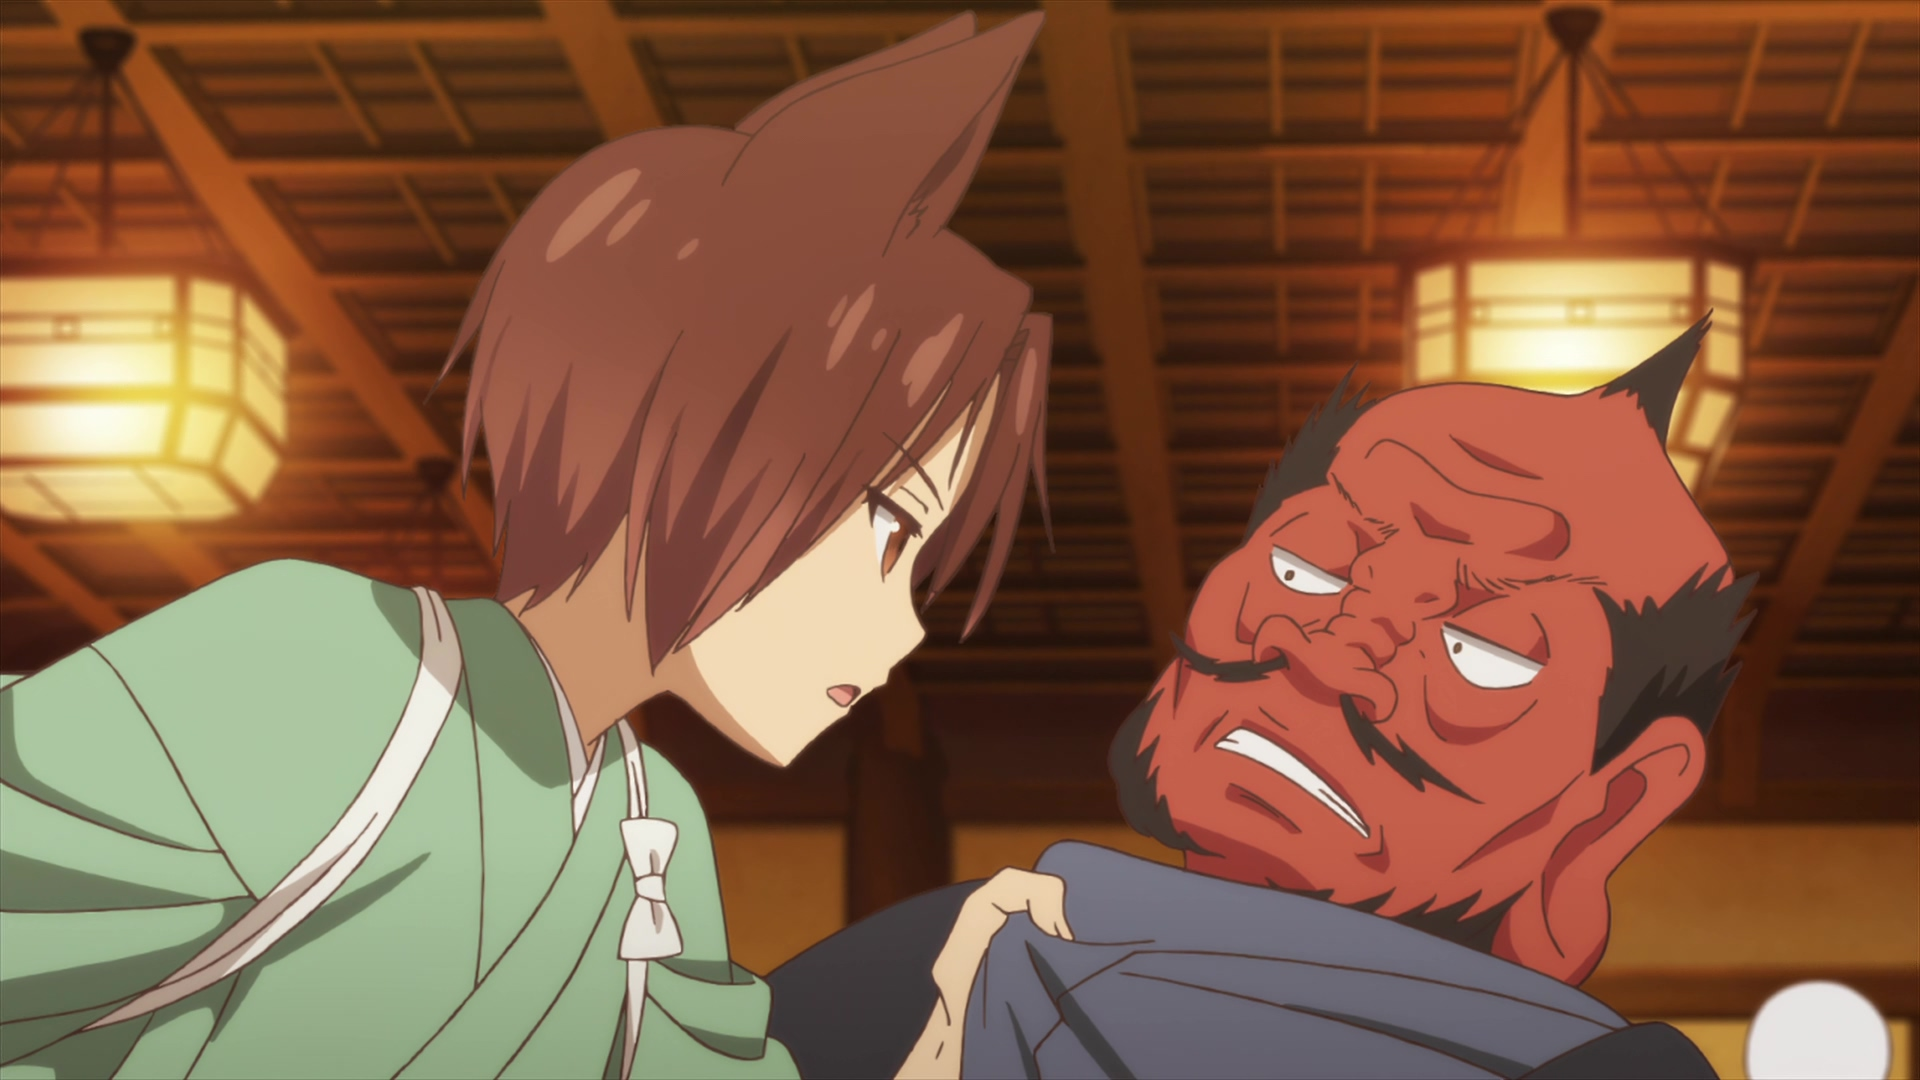其他: (767, 313, 1733, 1080)
枣: (1, 9, 1073, 1080)
